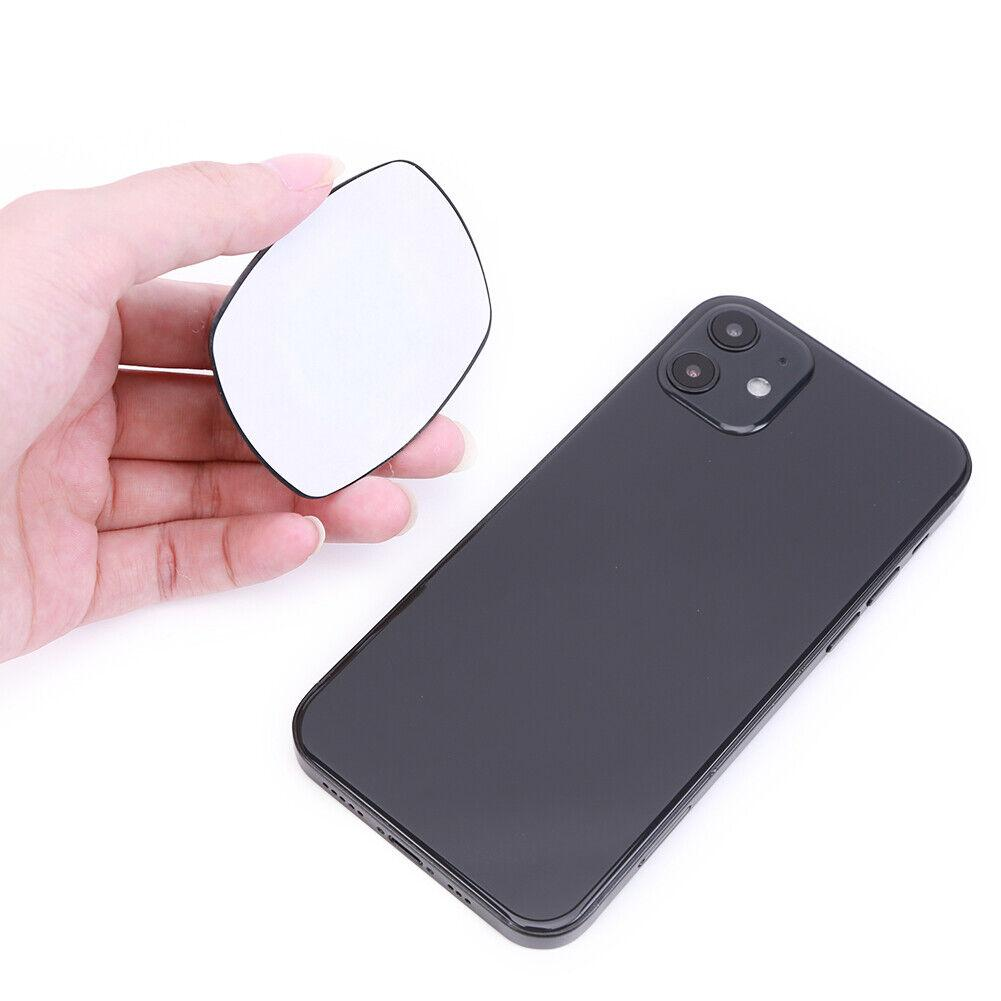Smart Phone: (291, 296, 975, 952)
